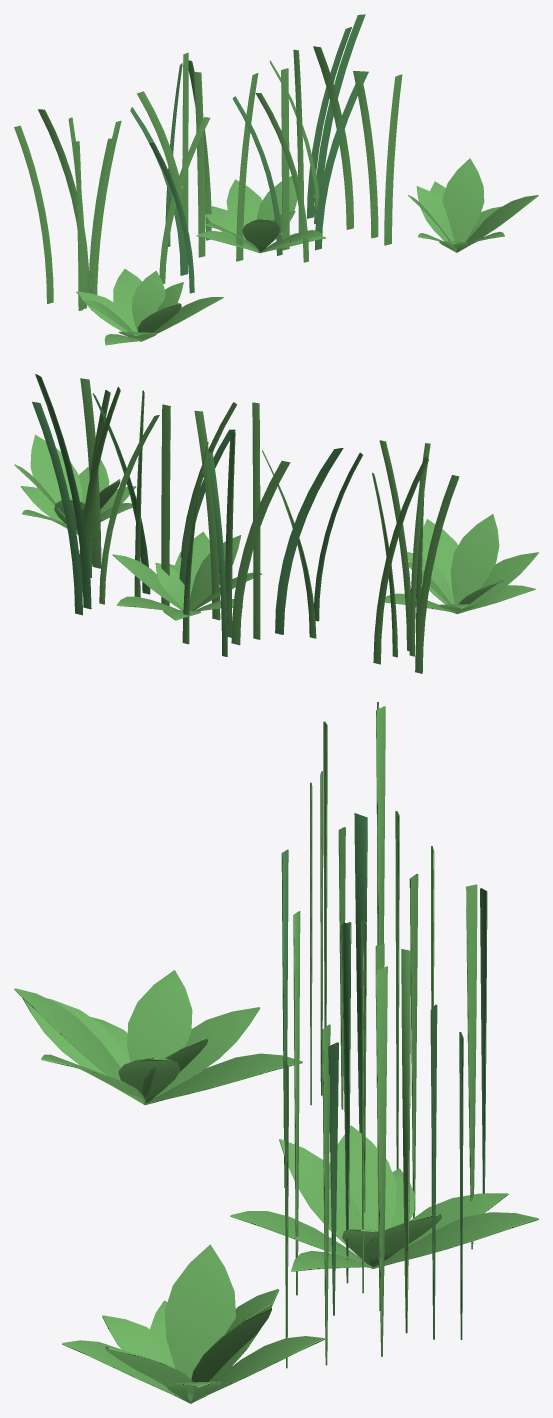
File: aquarium_plants.glb
3 renders of one model, top to bottom at view 1: azimuth 30°, elevation 25°; view 2: azimuth 150°, elevation 25°; view 3: azimuth 270°, elevation 25°, orthographic. The views are drawn at different scales.
Parts seen in each view (by area): view 1: aquarium_plants; view 2: aquarium_plants; view 3: aquarium_plants.
Boxes of the visible parts, x1,y1,x2,y2 form: aquarium_plants: [14, 14, 538, 345]; aquarium_plants: [14, 374, 538, 673]; aquarium_plants: [14, 702, 538, 1403].
Bounding box in the file's own units: 0.4278 × 0.1908 × 0.2303.
